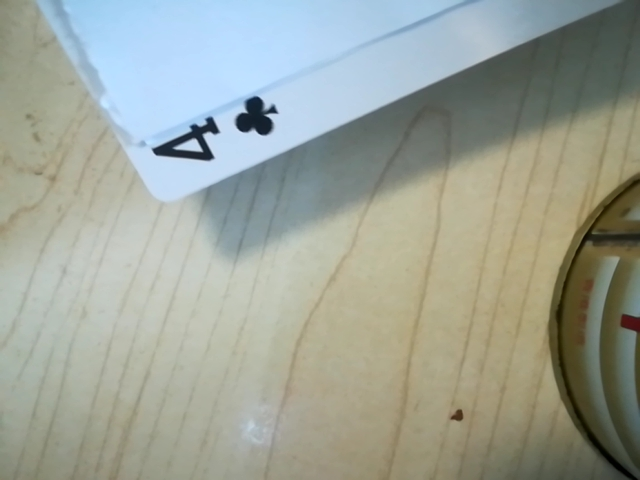mh 4: (137, 85, 296, 182)
